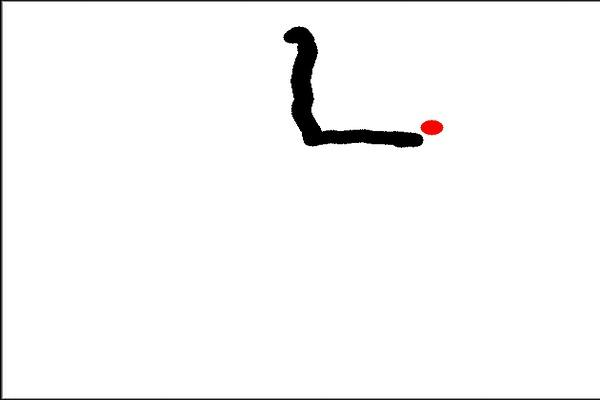L: (274, 18, 426, 158)
